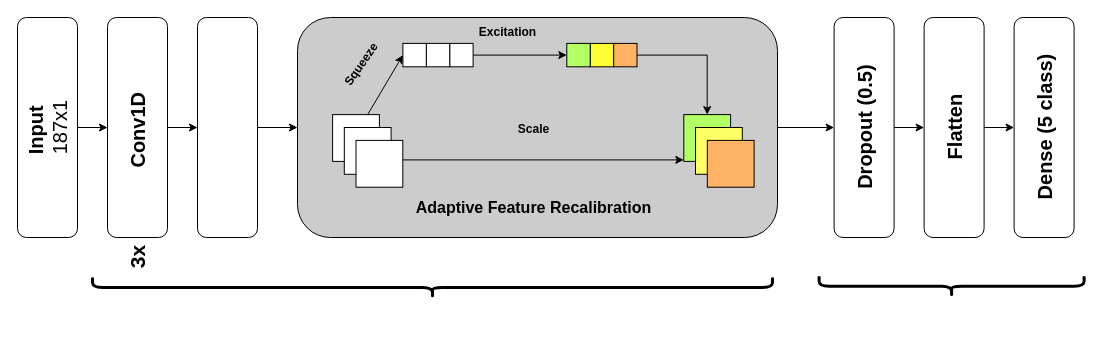
Some shapes in this 1103 by 345 pixel diagram are drawn without their labels. The shapes that lost their labels are listed below. From the top down, each one's box as (x1, y1, x2, y2) in pixels, then its label:
(196, 16, 258, 238): Max-pooling
(90, 276, 774, 298): Feature Extraction
(817, 274, 1085, 297): Classification
